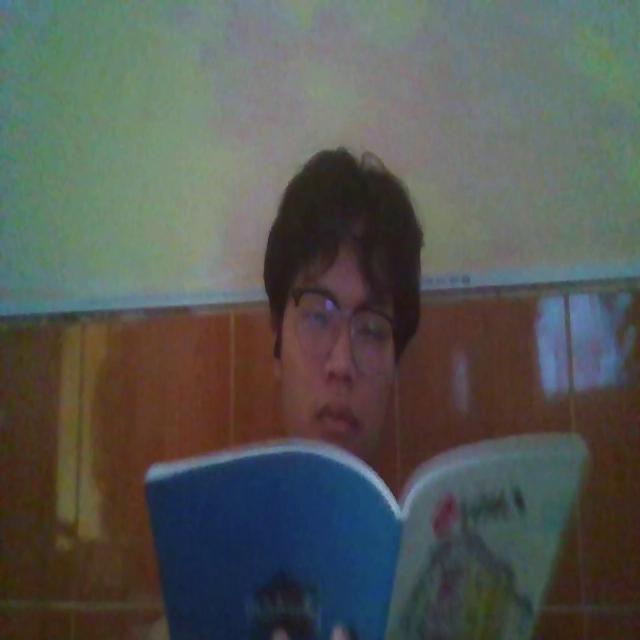book: (135, 415, 591, 640)
student: (261, 138, 422, 451)
